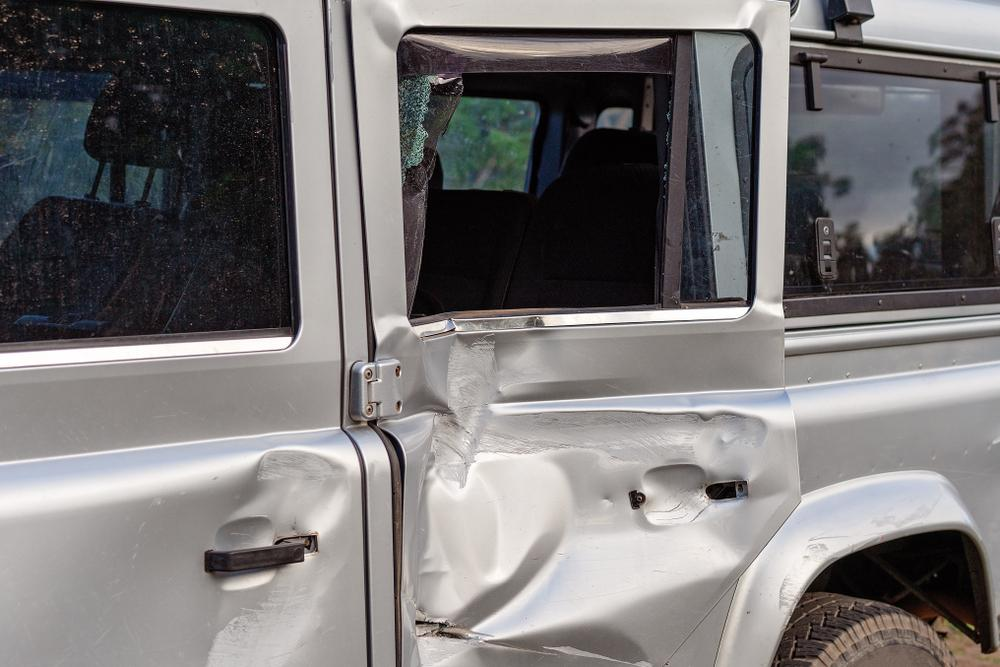dent: (406, 316, 786, 667), (226, 447, 350, 532)
glass shatter: (397, 65, 670, 320)
scratch: (779, 491, 949, 618)
